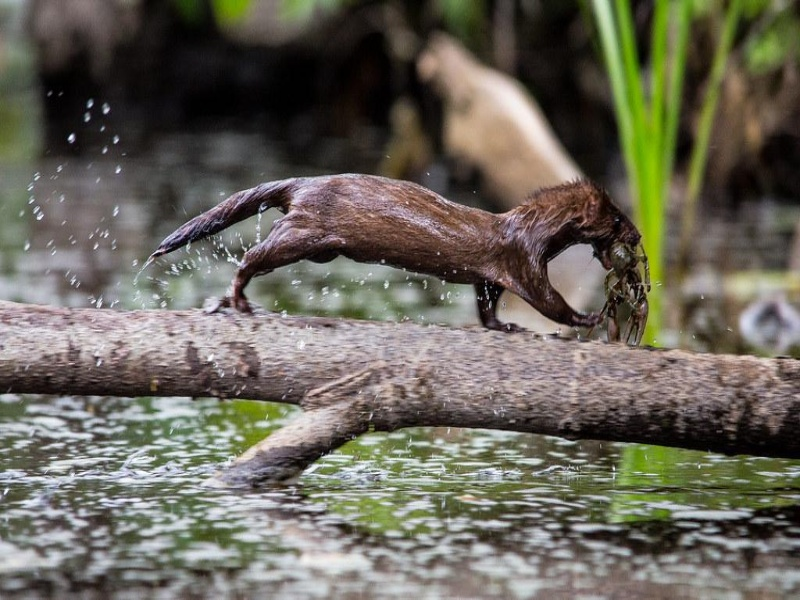minkish: (149, 171, 642, 336)
